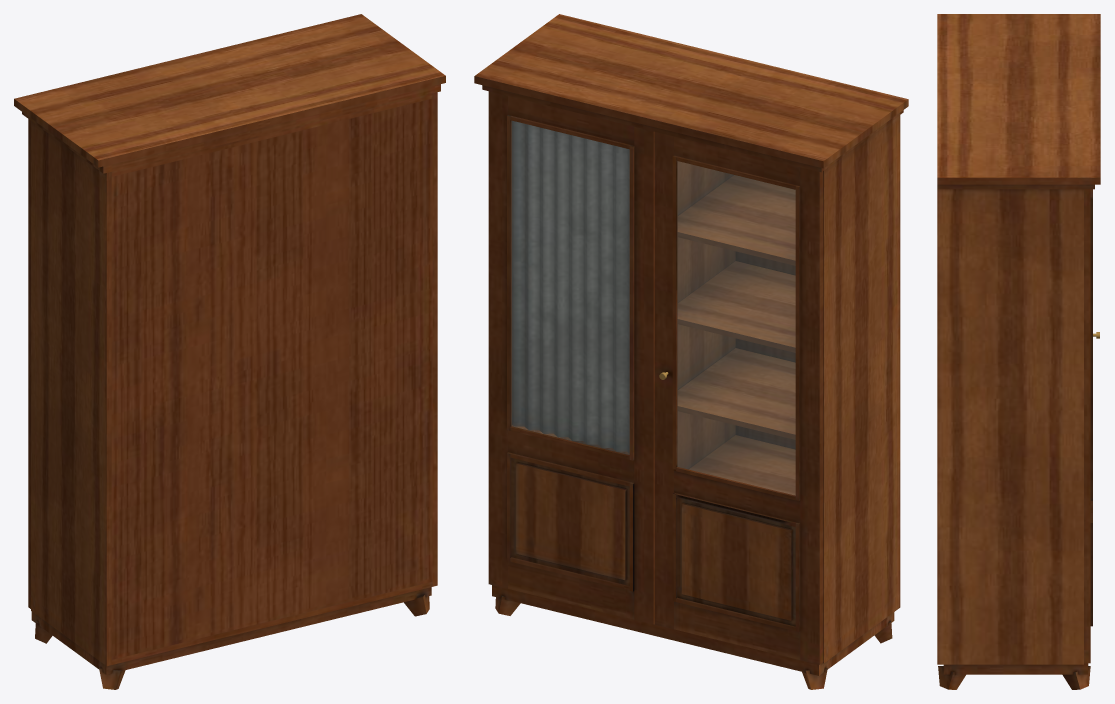
File: wardrobe_50s_glass_web.glb
3 renders of one model, left to right at view 1: azimuth 30°, elevation 25°; view 2: azimuth 150°, elevation 25°; view 3: azimuth 270°, elevation 25°, orthographic. The views are drawn at different scales.
Parts seen in each view (by area): view 1: Wardrobe50sGlass_Body, Door_R_Mesh; view 2: Wardrobe50sGlass_Body, Door_L_Mesh, Door_R_Mesh, Glass_Door_R, Glass_Door_L; view 3: Wardrobe50sGlass_Body, Door_L_Mesh.
Boxes of the visible parts, x1,y1,x2,y2 form: Wardrobe50sGlass_Body: (14, 14, 445, 689); Door_R_Mesh: (28, 119, 30, 608); Wardrobe50sGlass_Body: (474, 14, 908, 689); Door_L_Mesh: (488, 91, 654, 624); Door_R_Mesh: (654, 132, 823, 664); Glass_Door_R: (677, 161, 795, 495); Glass_Door_L: (511, 121, 629, 454); Wardrobe50sGlass_Body: (937, 14, 1100, 689); Door_L_Mesh: (1084, 189, 1092, 663).
Bounding box in the file's own units: 1.26 × 1.87 × 0.53.
3 materials, 2 textured.
